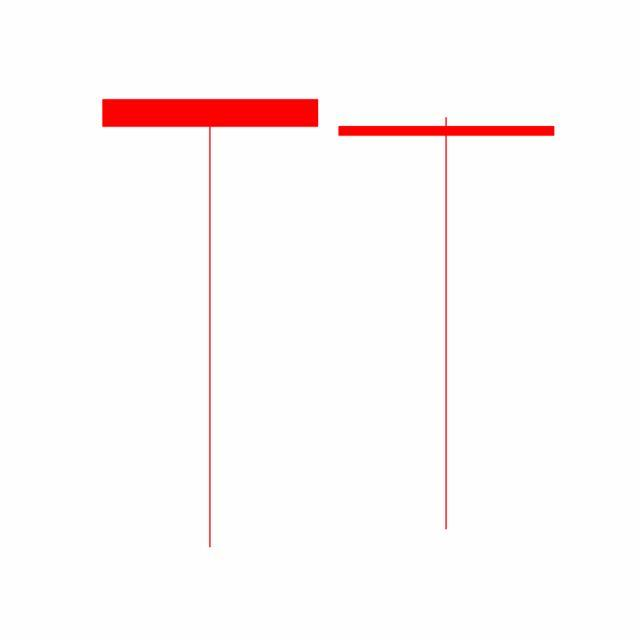Dragonfly Doji: (328, 114, 566, 535)
